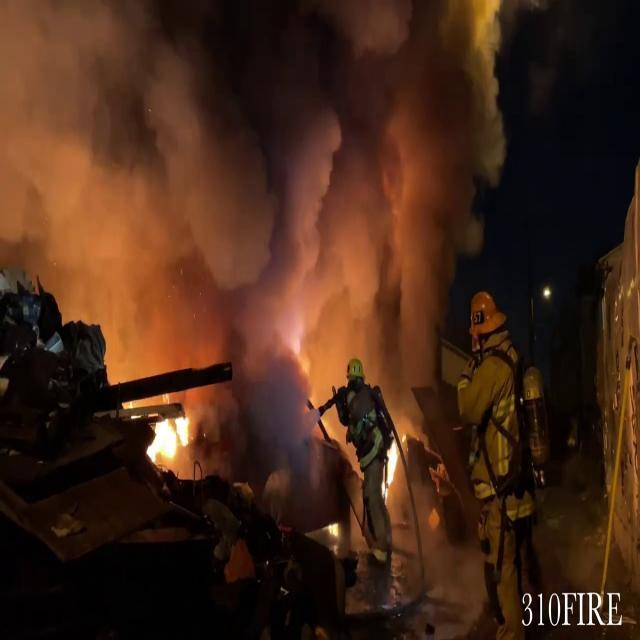Fire: (142, 406, 195, 468)
Smoke: (2, 0, 502, 375)
